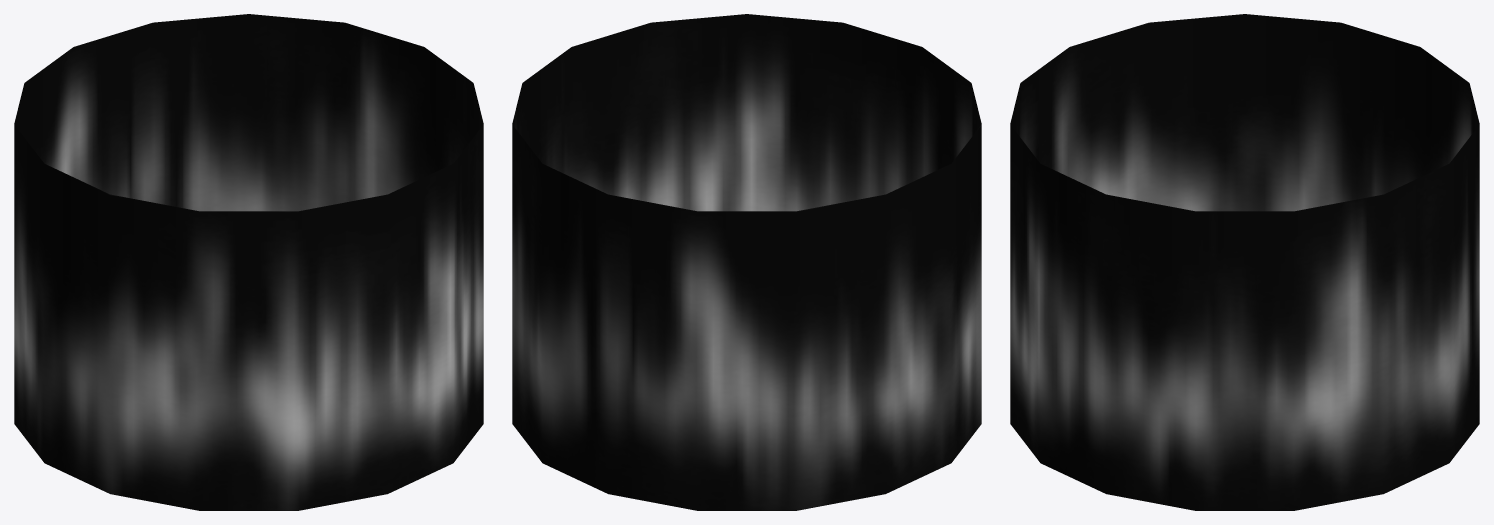
3 views of the same model, side by side, from view 1: azimuth 30°, elevation 25°; view 2: azimuth 150°, elevation 25°; view 3: azimuth 270°, elevation 25° (orthographic).
Parts seen in each view (by area): view 1: Cylinder001; view 2: Cylinder001; view 3: Cylinder001.
Boxes of the visible parts, x1,y1,x2,y2 form: Cylinder001: (14, 14, 483, 510); Cylinder001: (512, 14, 981, 510); Cylinder001: (1010, 14, 1479, 510).
Bounding box in the file's own units: 60.05 × 60.38 × 42.5.
